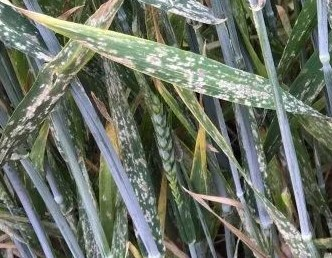Powdery Mildew: (145, 47, 261, 113), (110, 113, 155, 219)
